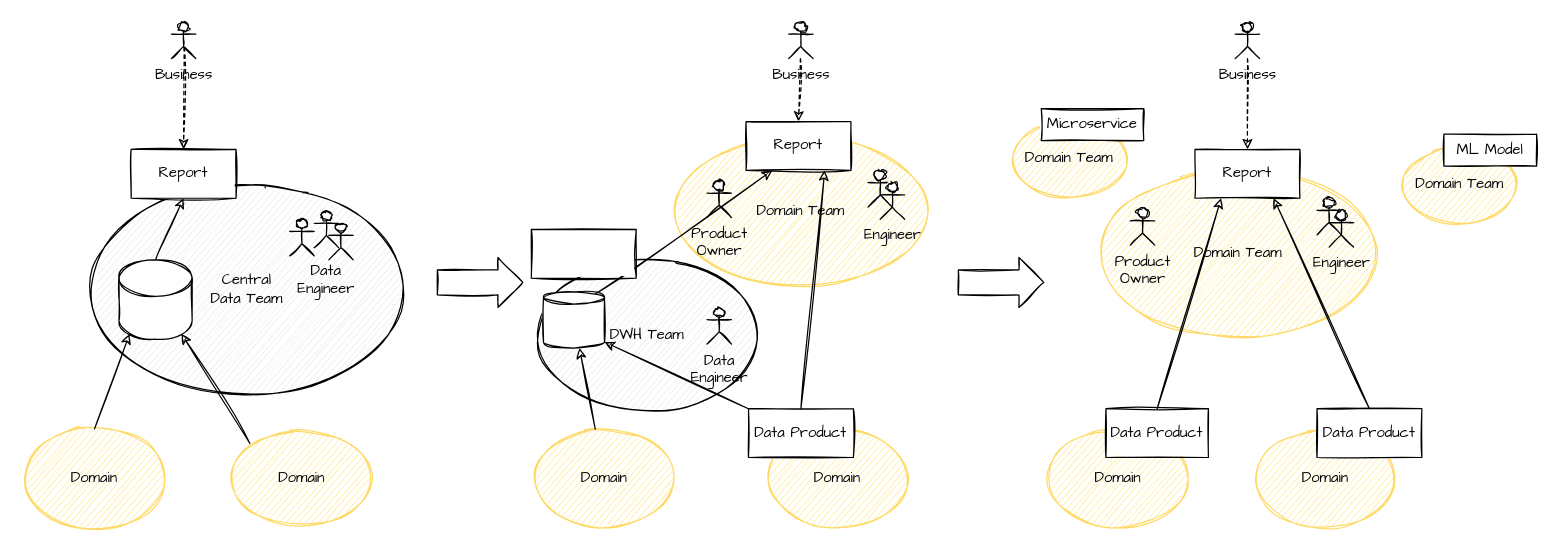
This 1558x549 diagram has some shape labels left out. The shapes that lost their labels are listed below. From the top down, each one's centre as x and y in pixels, then its label:
At (x=583, y=253): "Other Reports".
At (x=155, y=299): "Monolithic DWH".
At (x=573, y=319): "Legacy DWH".
